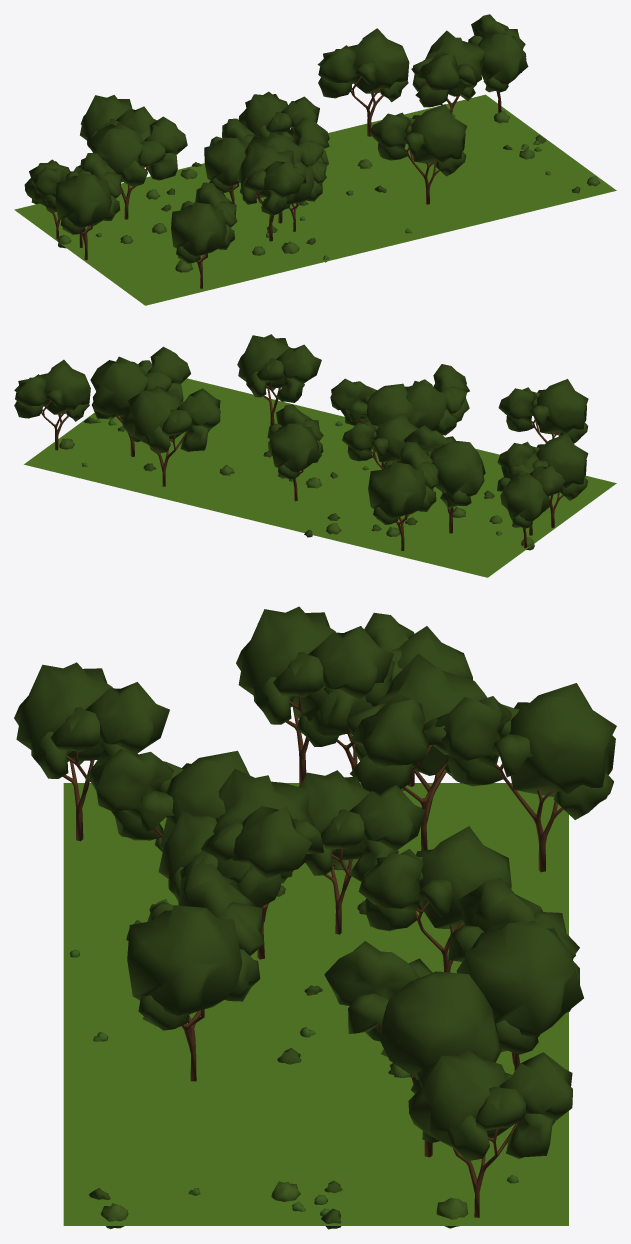
File: nature_left2.glb
3 views of the same model, one above another, from view 1: azimuth 30°, elevation 25°; view 2: azimuth 150°, elevation 25°; view 3: azimuth 270°, elevation 25° (orthographic). The views are drawn at different scales.
Parts seen in each view (by area): view 1: Scatter.018, ground.006, Scatter.019; view 2: Scatter.018, ground.006, Scatter.019; view 3: Scatter.018, ground.006, Scatter.019.
Part boxes in pixels (bbox=[...]): Scatter.018: bbox=[24, 14, 528, 288]; ground.006: bbox=[14, 94, 616, 305]; Scatter.019: bbox=[57, 111, 600, 272]; Scatter.018: bbox=[14, 334, 588, 550]; ground.006: bbox=[24, 378, 616, 577]; Scatter.019: bbox=[59, 416, 534, 550]; Scatter.018: bbox=[14, 606, 616, 1217]; ground.006: bbox=[63, 783, 568, 1225]; Scatter.019: bbox=[69, 786, 575, 1229].
Bounding box in the file's own units: 61.59 × 12.4 × 32.22.
